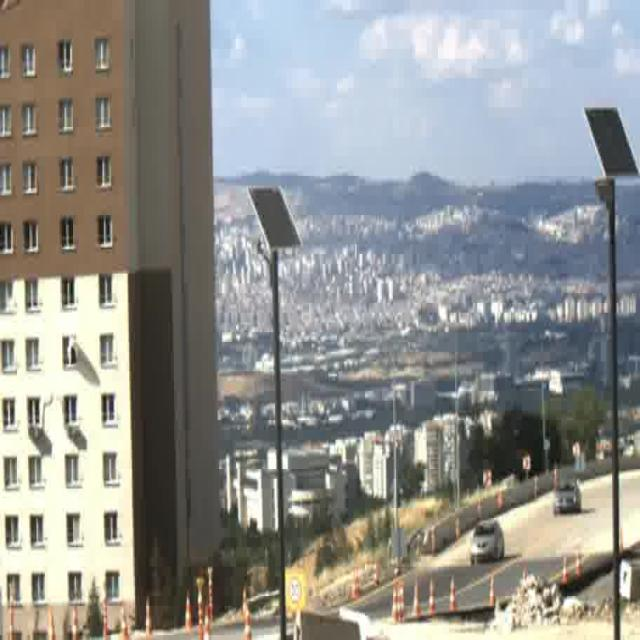Car: (472, 523, 504, 565), (554, 478, 581, 514)
